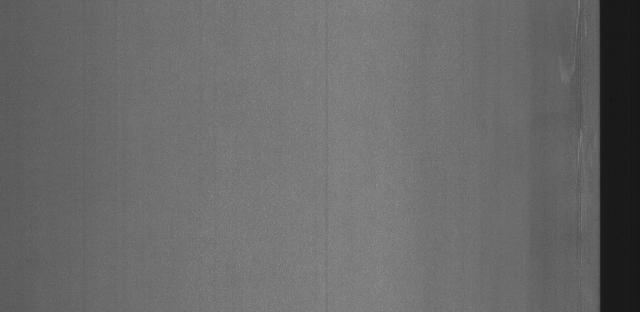silk_spot: (561, 3, 596, 203)
